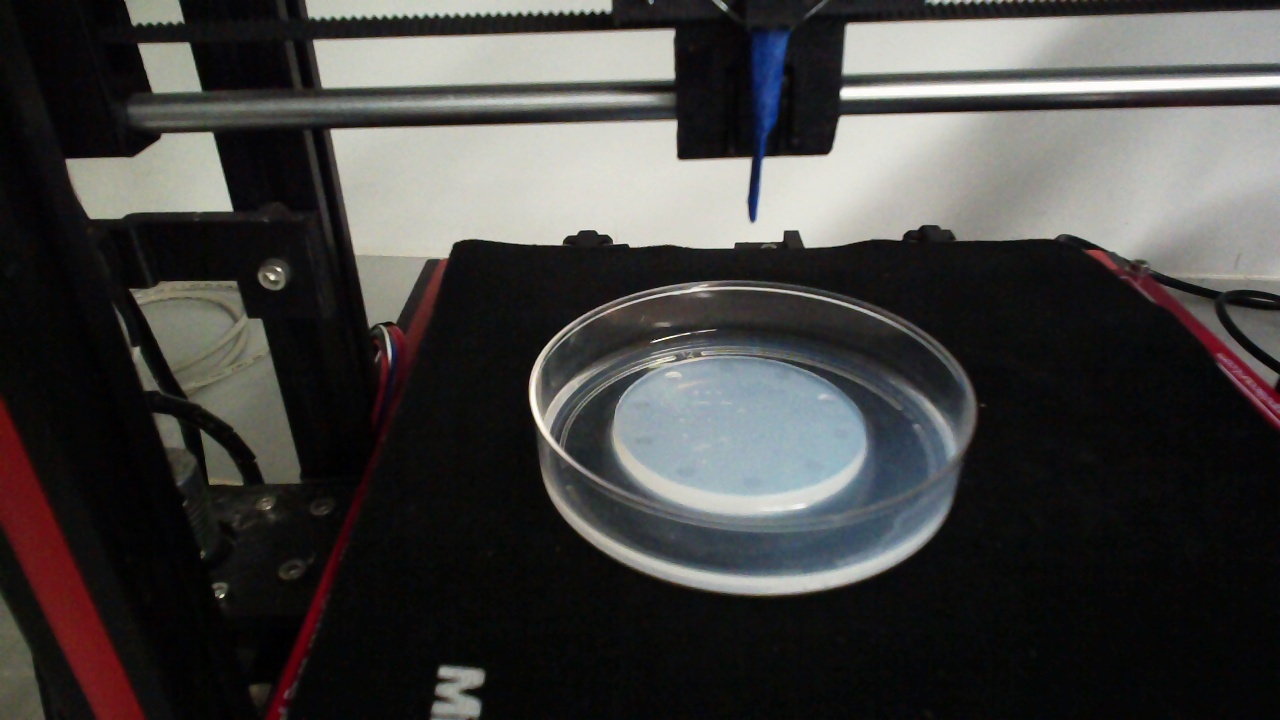groove: (628, 398, 653, 412), (675, 463, 695, 480), (804, 460, 826, 475), (742, 475, 763, 490), (633, 432, 654, 446), (816, 393, 837, 407), (773, 369, 792, 383), (717, 361, 736, 375), (662, 370, 683, 382), (831, 427, 849, 440)
needle: (748, 32, 788, 220)
